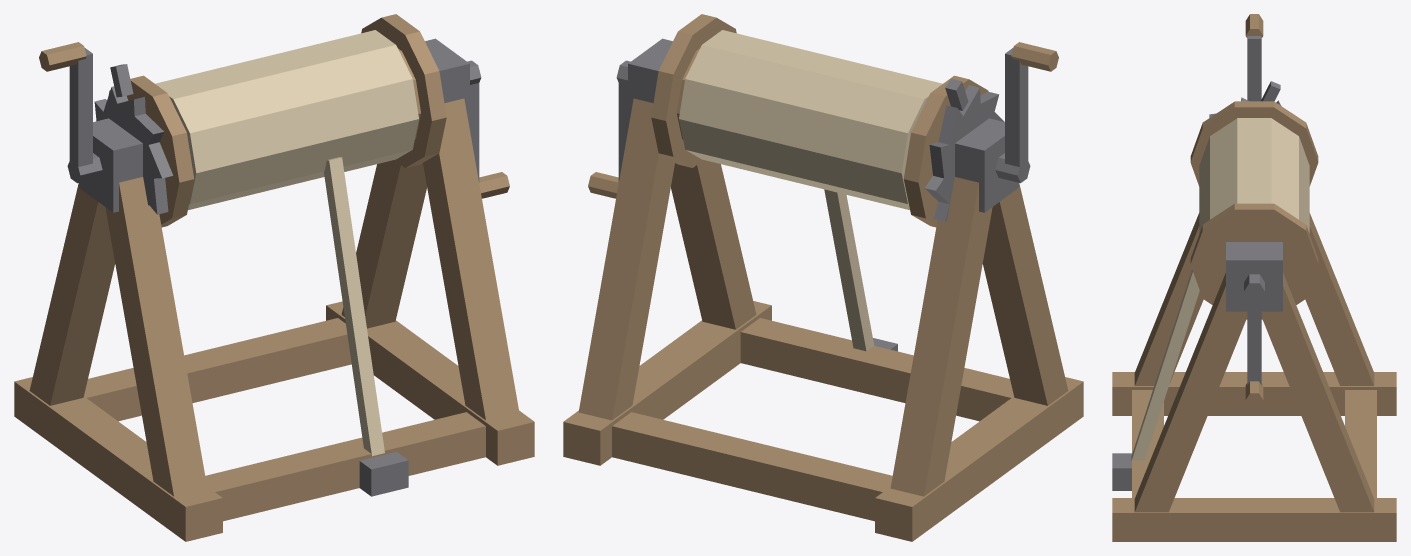
File: prop-windlass-wood.glb
The picture shows the model from 3 angles, left to right: view 1: azimuth 30°, elevation 25°; view 2: azimuth 150°, elevation 25°; view 3: azimuth 270°, elevation 25°; orthographic projection. The views are drawn at different scales.
Parts seen in each view (by area): view 1: prop-windlass-wood; view 2: prop-windlass-wood; view 3: prop-windlass-wood.
Part boxes in pixels (<box>): prop-windlass-wood: <box>14,14,534,541</box>; prop-windlass-wood: <box>563,14,1083,541</box>; prop-windlass-wood: <box>1112,14,1396,541</box>.
Size of the model in its own units: 1.24 by 1.13 by 0.8.
